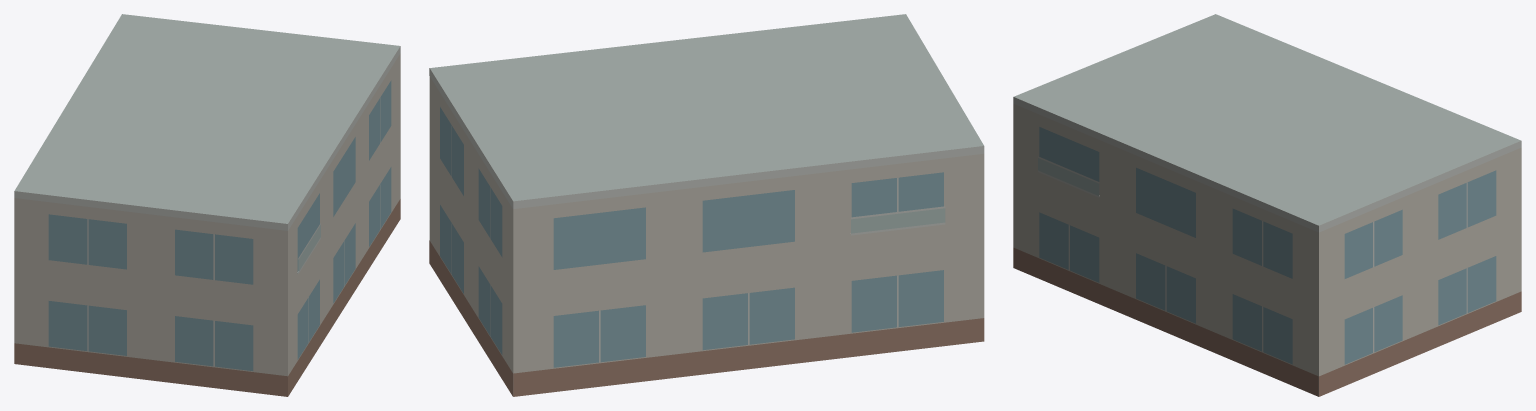
Rendered from survey-upis-32906854.glb.
3 renders of one model, left to right at view 1: azimuth 30°, elevation 25°; view 2: azimuth 150°, elevation 25°; view 3: azimuth 270°, elevation 25°, orthographic. The views are drawn at different scales.
Visible parts, largest first — view 1: survey-upis-32906854.tmp; view 2: survey-upis-32906854.tmp; view 3: survey-upis-32906854.tmp.
Part boxes in pixels (x1,y1,x2,y2): survey-upis-32906854.tmp: (14,14,400,396); survey-upis-32906854.tmp: (429,14,984,396); survey-upis-32906854.tmp: (1013,14,1521,396).
Size of the model in its own units: 16.2 by 6.1 by 16.42.
